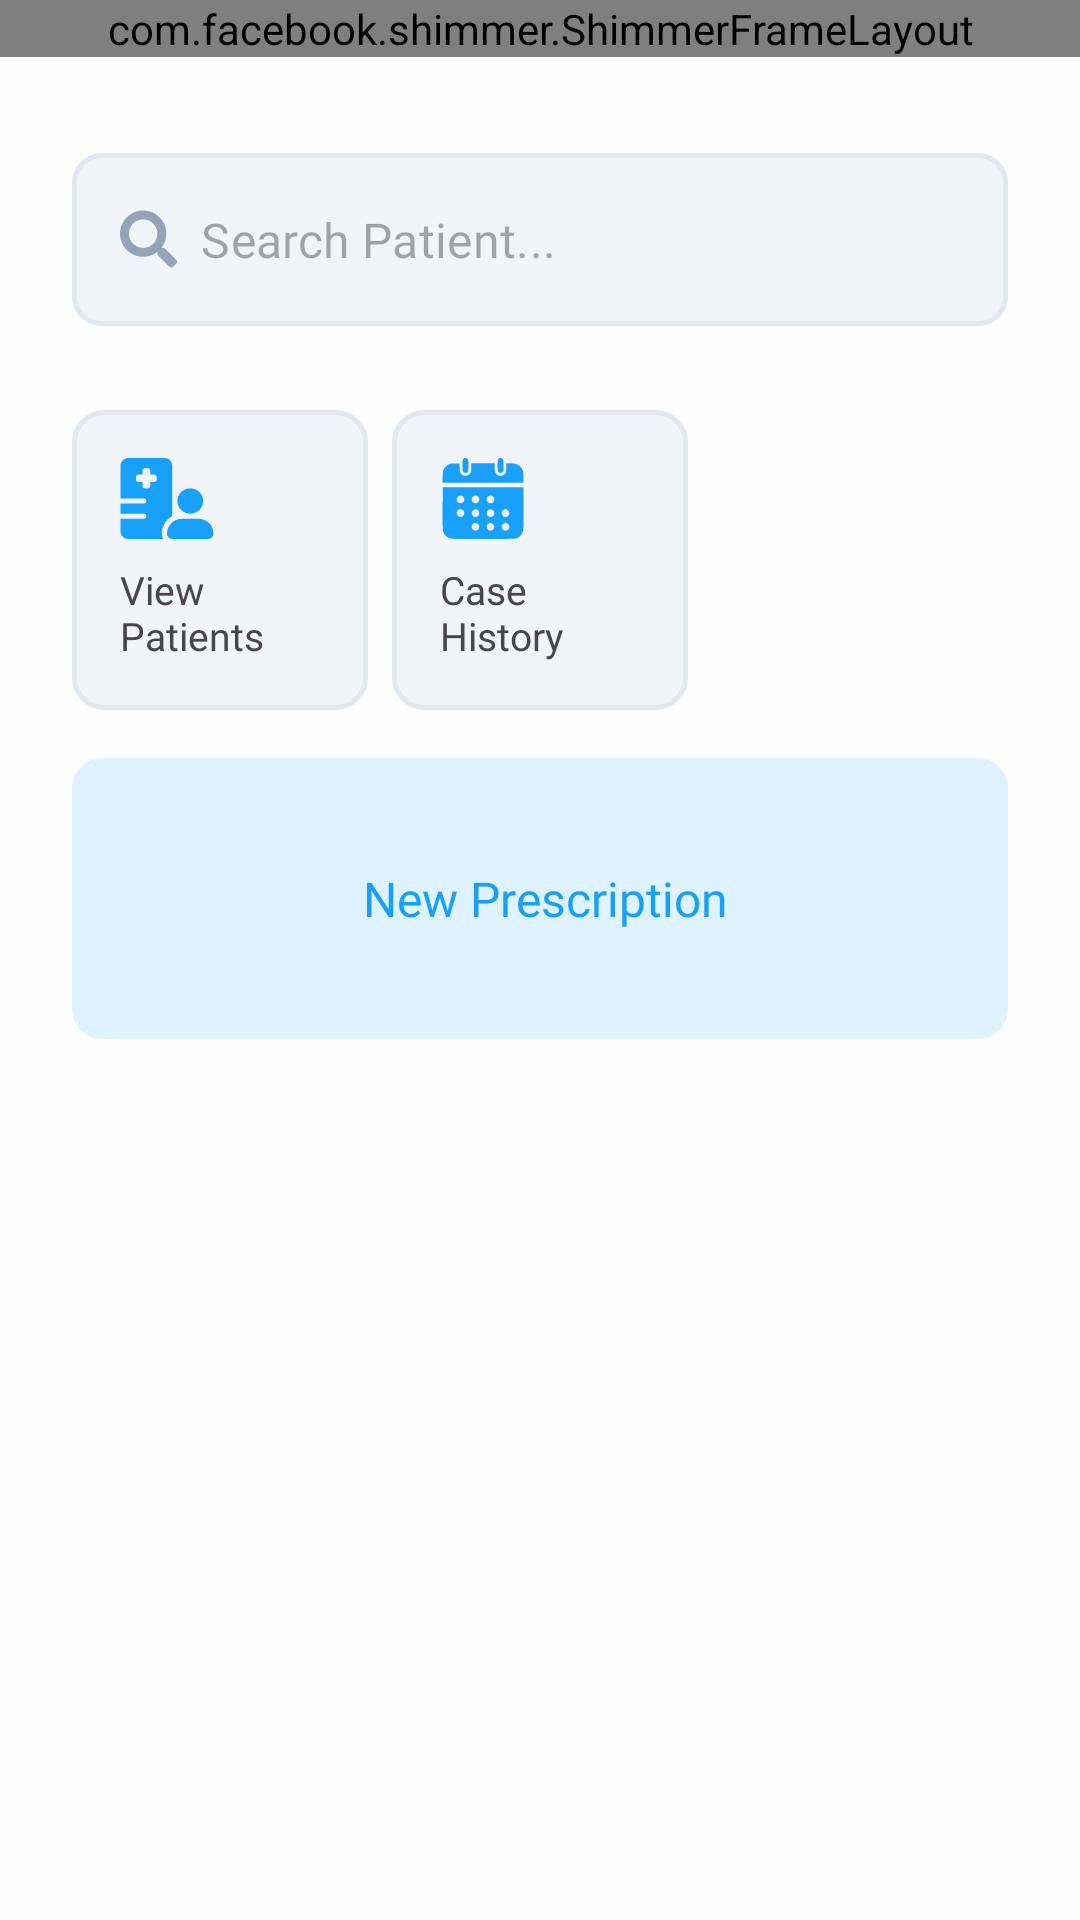

Icons on this 1080x1920 Android screen, each with its box as (x1, y1, x2, y2):
appointments: (442, 458, 524, 539)
